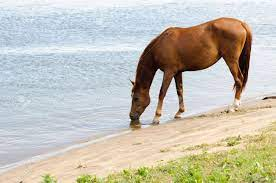Horse: (115, 13, 251, 134)
